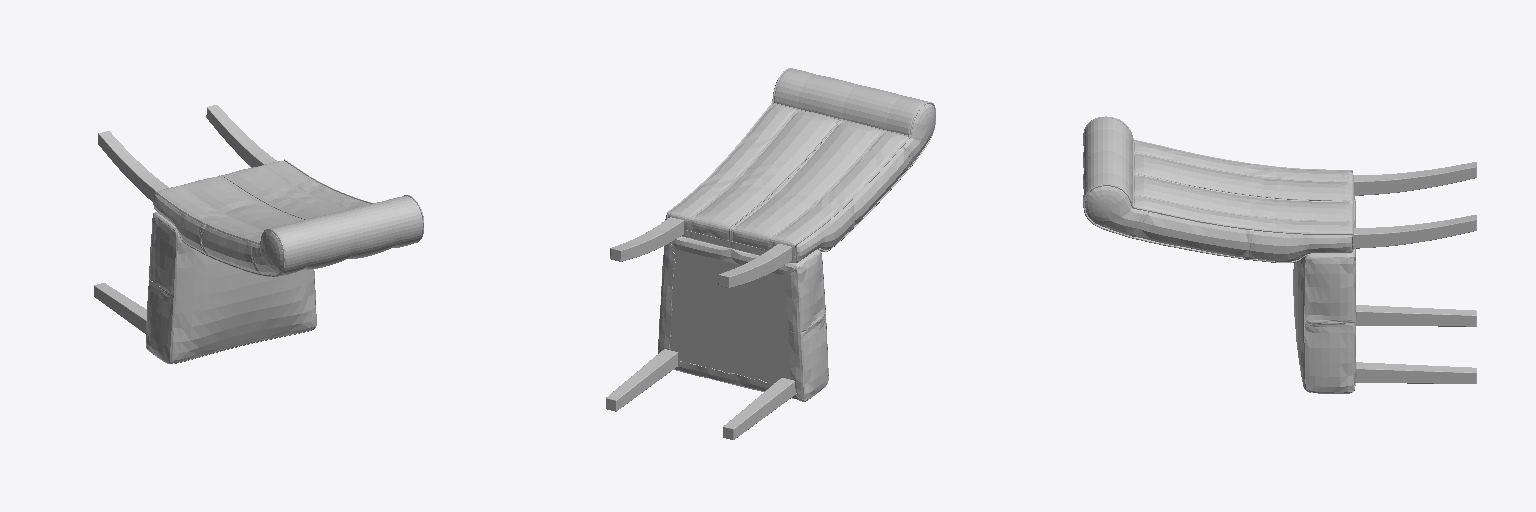
The model's file is dining_chair_02.003.obj.
3 views of the same model, side by side, from view 1: azimuth 30°, elevation 25°; view 2: azimuth 150°, elevation 25°; view 3: azimuth 270°, elevation 25° (orthographic).
Visible parts, largest first — view 1: dining_chair_02.003; view 2: dining_chair_02.003; view 3: dining_chair_02.003.
Boxes of the visible parts, x1,y1,x2,y2 form: dining_chair_02.003: [94, 105, 423, 363]; dining_chair_02.003: [606, 68, 935, 439]; dining_chair_02.003: [1083, 116, 1476, 393].
Size of the model in its own units: 0.4336 by 0.5764 by 0.9734.